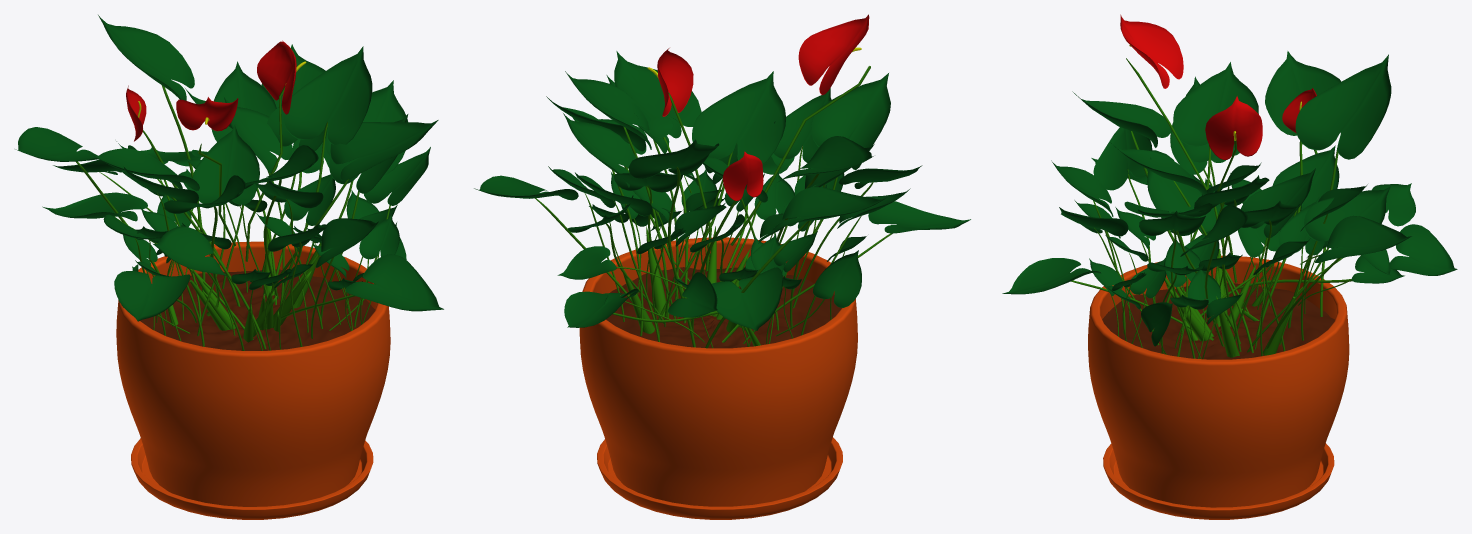
File: anturium.fbx
3 views of the same model, side by side, from view 1: azimuth 30°, elevation 25°; view 2: azimuth 150°, elevation 25°; view 3: azimuth 270°, elevation 25° (orthographic). The views are drawn at different scales.
Visible parts, largest first — view 1: Line001, Cylinder004, Plane009, Line002, Plane004, Plane008, Plane012, Plane047, Plane013, Plane019, Plane018, Plane044 (+26 smaller); view 2: Line001, Cylinder004, Plane014, Line002, Plane007, Plane008, Plane003, Plane045, Plane006, Plane009, Plane031, Plane004 (+27 smaller); view 3: Line001, Cylinder004, Plane004, Line002, Plane044, Plane010, Plane006, Plane060, Plane002, Plane015, Plane003, Plane019 (+32 smaller).
Part boxes in pixels (<box>): Line001: <box>116,241,390,506</box>; Cylinder004: <box>140,269,374,350</box>; Plane009: <box>280,46,372,305</box>; Line002: <box>131,438,373,519</box>; Plane004: <box>98,15,205,292</box>; Plane008: <box>265,120,438,306</box>; Plane012: <box>280,254,443,319</box>; Plane047: <box>192,124,259,335</box>; Plane013: <box>114,271,196,322</box>; Plane019: <box>153,226,244,350</box>; Plane018: <box>224,97,292,305</box>; Plane044: <box>88,148,266,349</box>; Line001: <box>579,237,857,506</box>; Cylinder004: <box>606,267,841,348</box>; Plane014: <box>658,71,785,319</box>; Line002: <box>597,437,842,519</box>; Plane007: <box>722,73,890,342</box>; Plane008: <box>614,51,701,323</box>; Plane003: <box>798,14,869,95</box>; Plane045: <box>711,267,782,330</box>; Plane006: <box>705,187,887,348</box>; Plane009: <box>565,71,669,319</box>; Plane031: <box>563,113,643,335</box>; Plane004: <box>628,139,719,347</box>; Line001: <box>1088,255,1349,507</box>; Cylinder004: <box>1102,283,1334,359</box>; Plane004: <box>1288,54,1391,328</box>; Line002: <box>1103,443,1334,519</box>; Plane044: <box>1166,62,1258,302</box>; Plane010: <box>1266,215,1411,348</box>; Plane006: <box>1265,51,1341,316</box>; Plane060: <box>1237,224,1457,289</box>; Plane002: <box>1205,96,1262,159</box>; Plane015: <box>1247,186,1390,352</box>; Plane003: <box>1120,14,1183,88</box>; Plane019: <box>1093,127,1154,303</box>.
Bounding box in the file's own units: 50.97 × 58.56 × 58.13.
